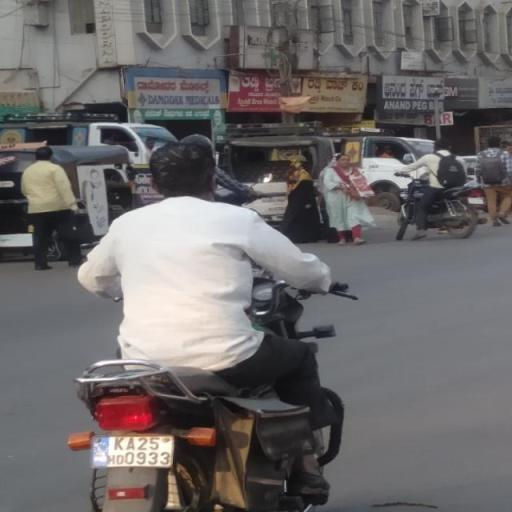bike: (56, 137, 373, 512)
numberplate: (86, 433, 172, 470)
withouthelmet: (152, 142, 218, 197)
